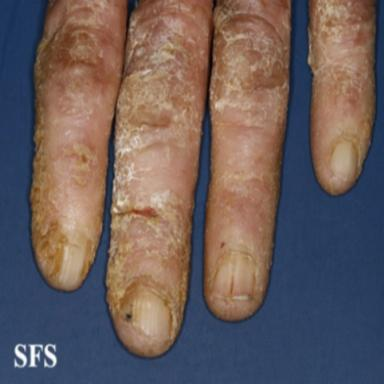Darier_s-Disease: (106, 0, 214, 361), (204, 1, 291, 320), (30, 0, 110, 289), (309, 2, 377, 177)
